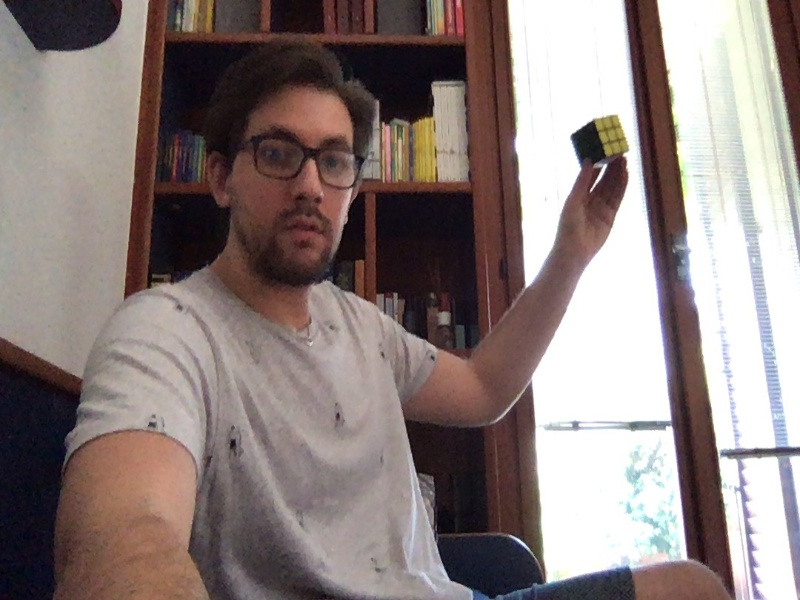rubik: (571, 115, 630, 172)
